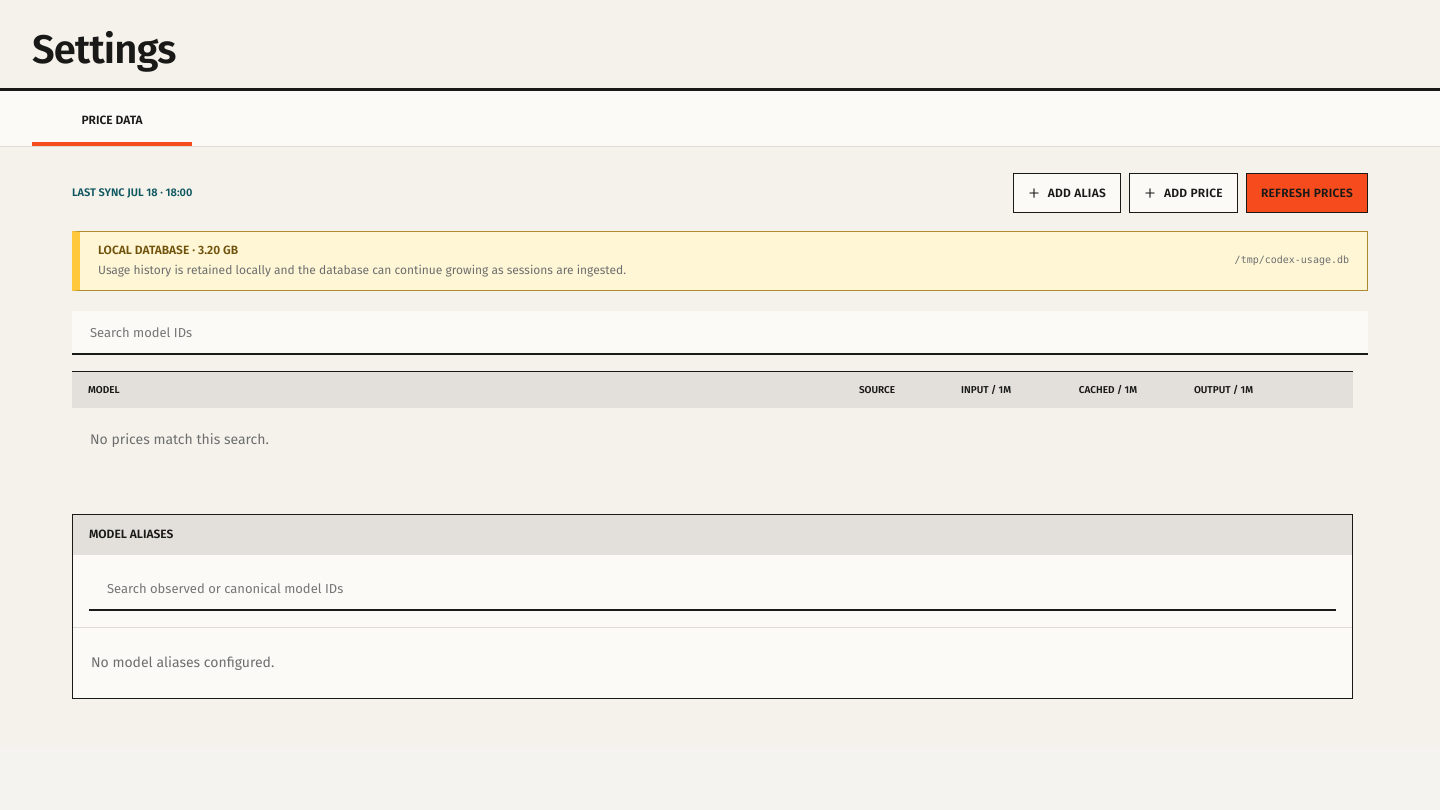
Test: SettingsPage price editor › reloads and displays persisted refresh health after the refresh request fails
Click the button "REFRESH PRICES" at (1307, 193), box left=1246, top=173, right=1368, bottom=213
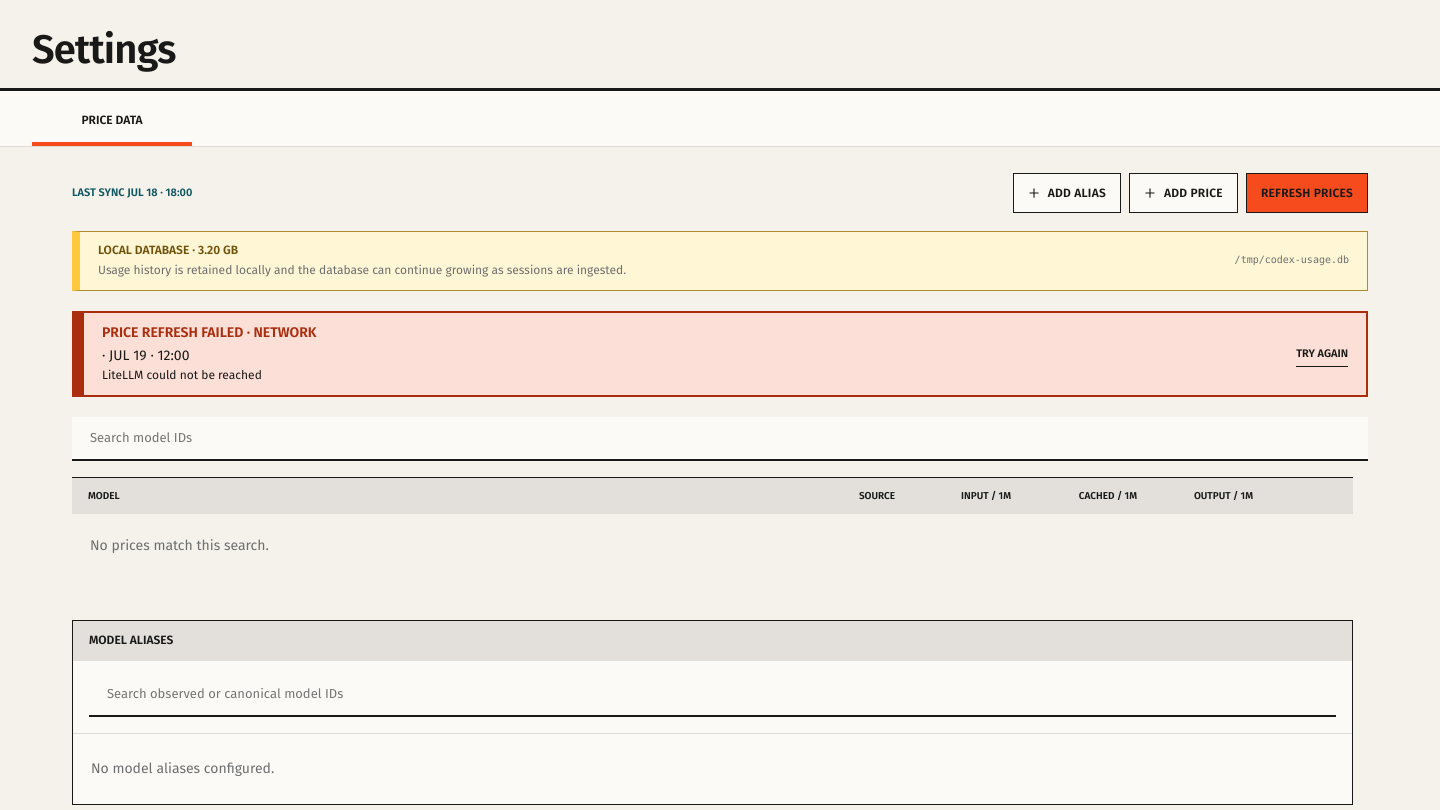
Check: the message that starts with "PRICE REFRESH FAILED" shows "PRICE REFRESH FAILED · NETWORK", box left=72, top=311, right=1368, bottom=397
Check: the message that starts with "PRICE REFRESH FAILED" shows "LiteLLM could not be reached", box left=102, top=369, right=262, bottom=383
